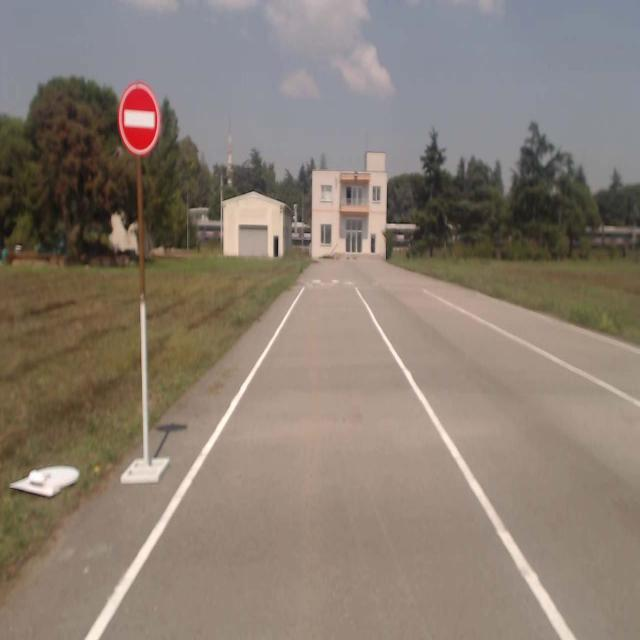girisyok: (116, 82, 162, 156)
